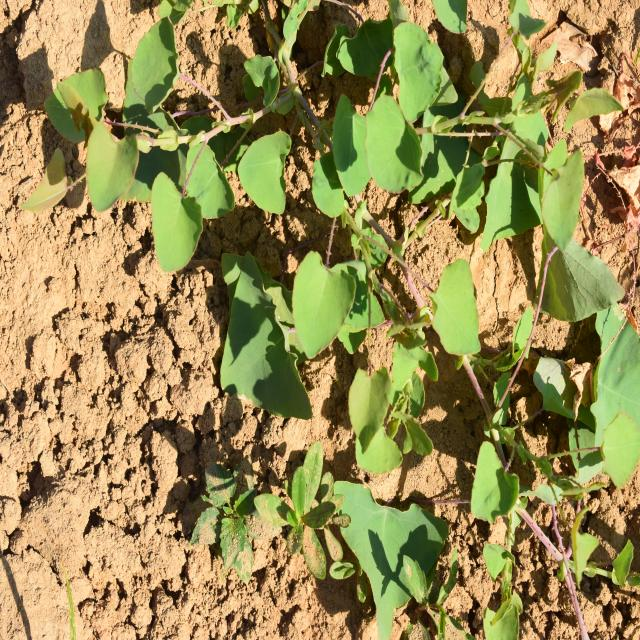Asiatic_Smartweed: (232, 177, 478, 497), (29, 25, 297, 268), (298, 17, 461, 195), (476, 39, 606, 244)
